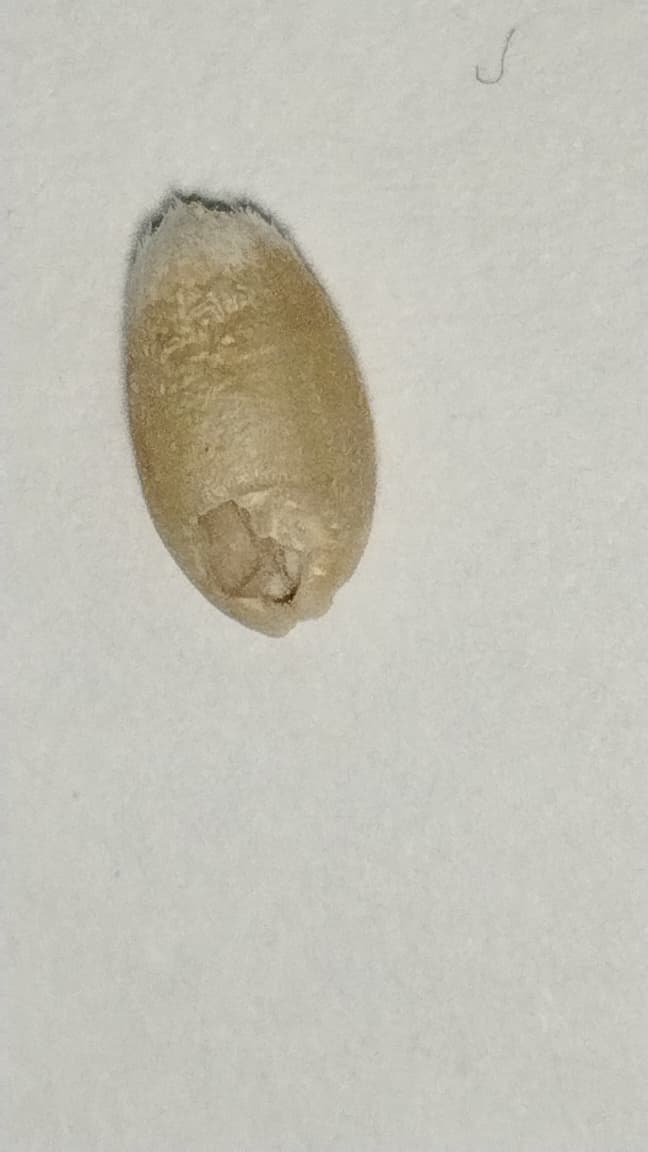damage: (127, 198, 377, 635)
insectdamage: (193, 459, 363, 643), (255, 509, 295, 580)
